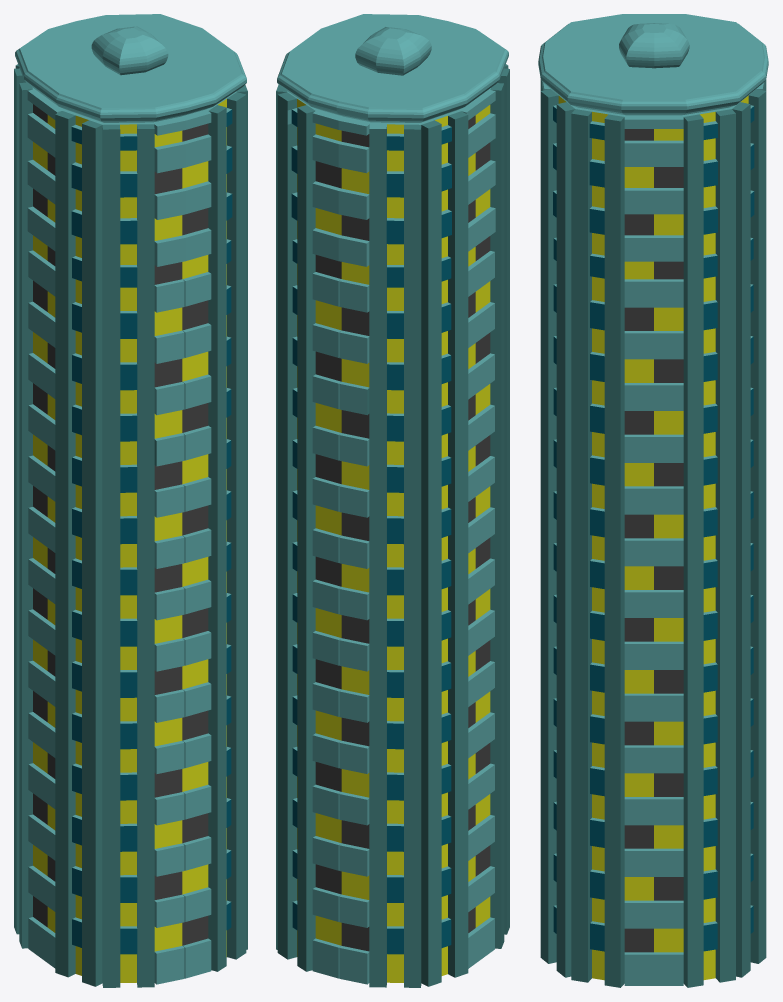
3 renders of one model, left to right at view 1: azimuth 30°, elevation 25°; view 2: azimuth 150°, elevation 25°; view 3: azimuth 270°, elevation 25°, orthographic.
Parts seen in each view (by area): view 1: Cube; view 2: Cube; view 3: Cube.
Part boxes in pixels (<box>): Cube: <box>14,14,247,987</box>; Cube: <box>276,14,509,987</box>; Cube: <box>538,14,768,987</box>.
Size of the model in its own units: 275 by 1288 by 294.
